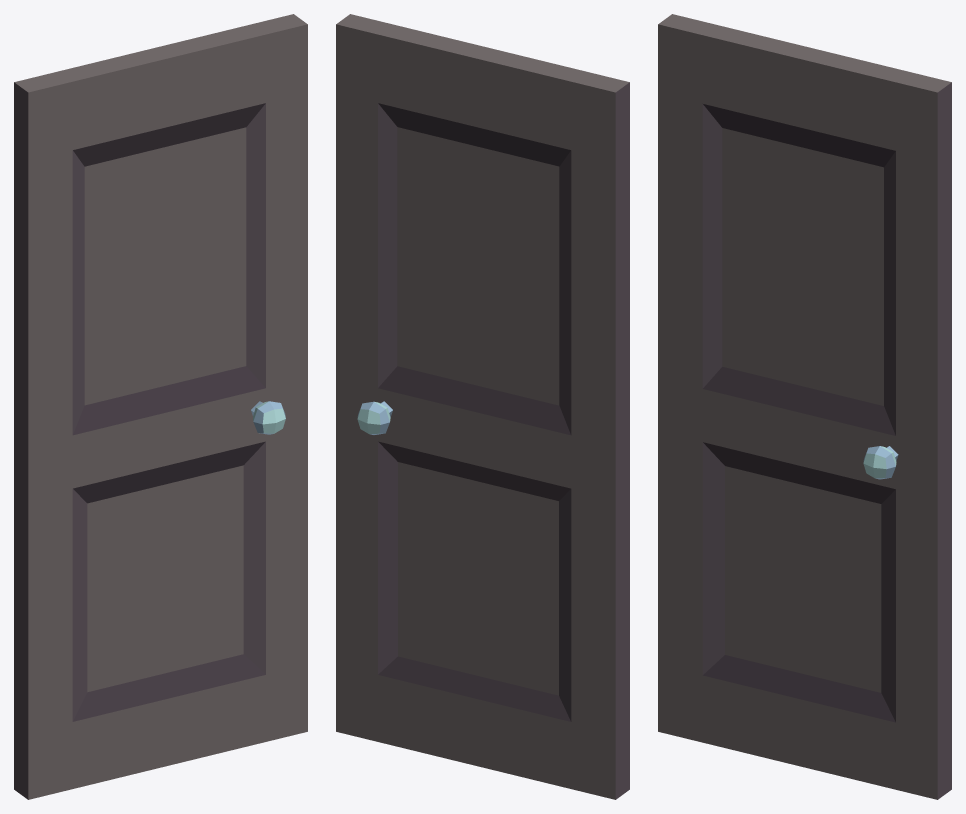
File: Bevel Door.fbx
3 views of the same model, side by side, from view 1: azimuth 30°, elevation 25°; view 2: azimuth 150°, elevation 25°; view 3: azimuth 330°, elevation 25° (orthographic).
Parts seen in each view (by area): view 1: Bevel Door; view 2: Bevel Door; view 3: Bevel Door.
Boxes of the visible parts, box(x1,y1,x2,y2) form: Bevel Door: box(14, 14, 307, 799); Bevel Door: box(336, 14, 629, 799); Bevel Door: box(658, 14, 951, 799).
Size of the model in its own units: 187 by 453 by 55.15.
